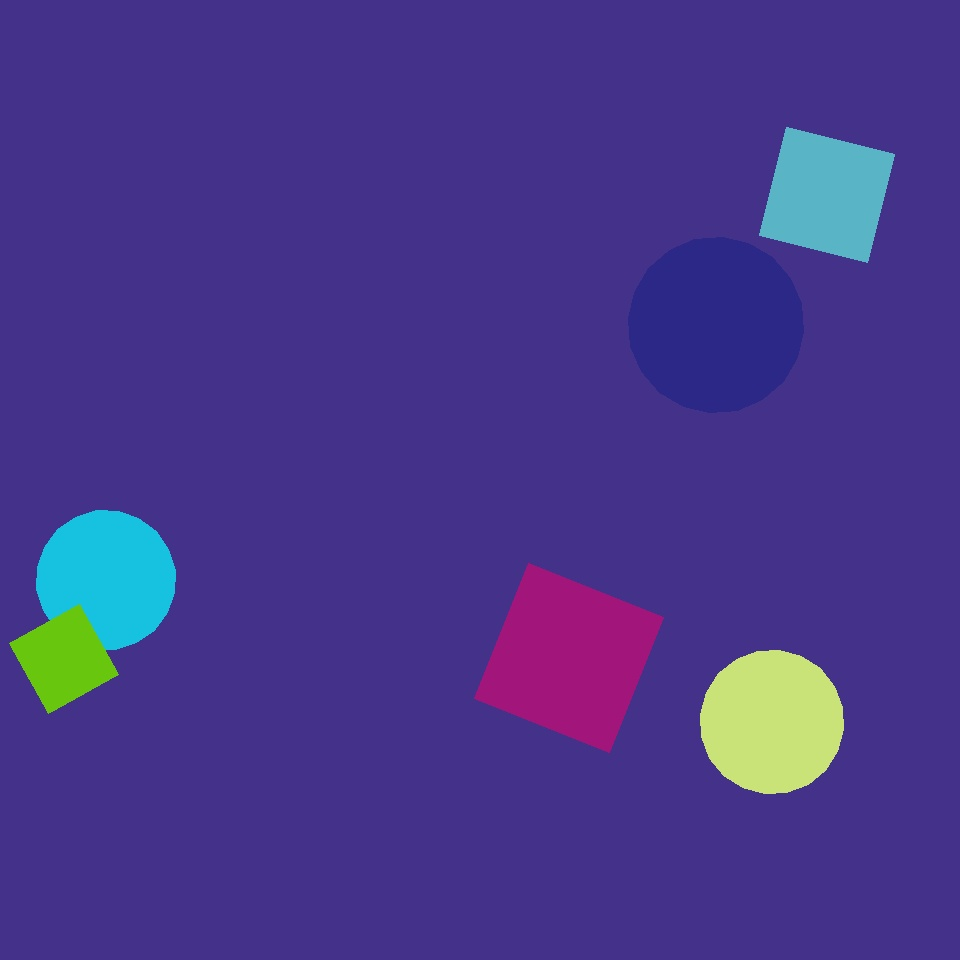circle: (114, 505, 427, 797), (167, 140, 248, 221)
square: (64, 416, 335, 686), (302, 475, 539, 711), (474, 564, 663, 752), (760, 128, 894, 262), (44, 250, 171, 376), (10, 604, 118, 714)
triangle: (375, 112, 688, 425), (628, 238, 804, 412), (700, 650, 844, 794), (36, 510, 176, 650)
